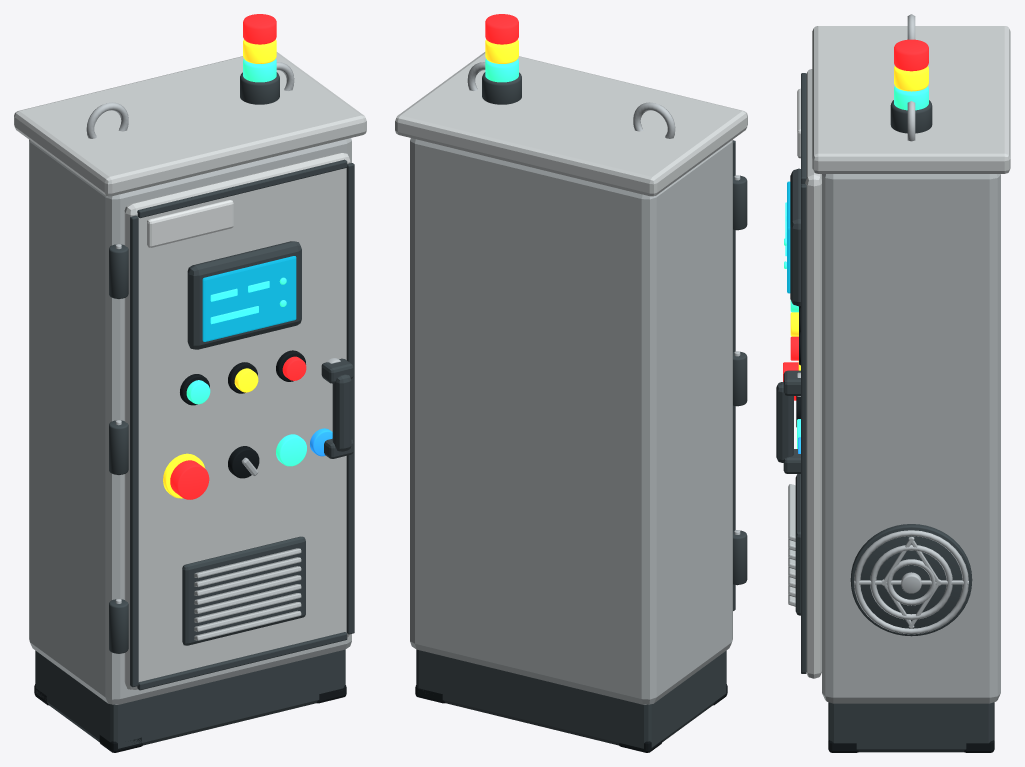
Rendered from plc-control-cabinet-generic-v1.glb.
The picture shows the model from 3 angles, left to right: view 1: azimuth 30°, elevation 25°; view 2: azimuth 150°, elevation 25°; view 3: azimuth 270°, elevation 25°; orthographic projection. The views are drawn at different scales.
Parts seen in each view (by area): view 1: DOOR_PANEL, CABINET_BODY, CABINET_TOP_CAP, CABINET_PLINTH, VENT_FRONT_RECESS, HMI_SCREEN, DOOR_GASKET_LEFT, HMI_BEZEL, DOOR_GASKET_RIGHT, CABINET_BLANK_NAMEPLATE, DOOR_GASKET_TOP, DOOR_GASKET_BOTTOM (+20 smaller); view 2: CABINET_BODY, CABINET_TOP_CAP, CABINET_PLINTH, STACK_LIGHT_BASE, STACK_LIGHT_RED, DOOR_GASKET_LEFT, DOOR_HINGE_1, DOOR_HINGE_2, DOOR_HINGE_3, STACK_LIGHT_AMBER, CABINET_LIFTING_EYE_L, STACK_LIGHT_GREEN; view 3: CABINET_BODY, CABINET_TOP_CAP, DOOR_PANEL, CABINET_PLINTH, SIDE_FAN_RECESS, DOOR_GASKET_RIGHT, SIDE_FAN_GUARD_RING_3, HMI_BEZEL, SIDE_FAN_GUARD_RING_2, DOOR_HANDLE, STACK_LIGHT_RED, STACK_LIGHT_BASE (+8 smaller).
Part boxes in pixels (box(x1,y1,x2,y2)): DOOR_PANEL: box(124, 153, 350, 689); CABINET_BODY: box(29, 138, 351, 704); CABINET_TOP_CAP: box(14, 52, 366, 196); CABINET_PLINTH: box(35, 649, 345, 748); VENT_FRONT_RECESS: box(182, 536, 305, 645); HMI_SCREEN: box(202, 256, 296, 341); DOOR_GASKET_LEFT: box(130, 215, 138, 687); HMI_BEZEL: box(187, 241, 301, 349); DOOR_GASKET_RIGHT: box(346, 163, 354, 634); CABINET_BLANK_NAMEPLATE: box(147, 200, 233, 247); DOOR_GASKET_TOP: box(137, 159, 347, 218); DOOR_GASKET_BOTTOM: box(137, 632, 347, 690); CABINET_BODY: box(410, 138, 732, 704); CABINET_TOP_CAP: box(395, 52, 747, 196); CABINET_PLINTH: box(416, 649, 726, 748); STACK_LIGHT_BASE: box(482, 72, 521, 104); STACK_LIGHT_RED: box(485, 14, 518, 44); DOOR_GASKET_LEFT: box(733, 140, 735, 610); DOOR_HINGE_1: box(733, 530, 747, 584); DOOR_HINGE_2: box(733, 351, 747, 405); DOOR_HINGE_3: box(733, 175, 747, 229); STACK_LIGHT_AMBER: box(485, 39, 518, 63); CABINET_LIFTING_EYE_L: box(633, 102, 675, 138); STACK_LIGHT_GREEN: box(485, 59, 518, 82); CABINET_BODY: box(822, 174, 1000, 703); CABINET_TOP_CAP: box(812, 26, 1010, 173); DOOR_PANEL: box(805, 69, 821, 678); CABINET_PLINTH: box(828, 702, 994, 752); SIDE_FAN_RECESS: box(850, 524, 972, 636); DOOR_GASKET_RIGHT: box(801, 184, 806, 672); SIDE_FAN_GUARD_RING_3: box(854, 530, 968, 634); HMI_BEZEL: box(790, 168, 800, 306); SIDE_FAN_GUARD_RING_2: box(870, 544, 952, 619); DOOR_HANDLE: box(776, 382, 793, 462); STACK_LIGHT_RED: box(894, 39, 928, 71); STACK_LIGHT_BASE: box(890, 100, 932, 133).
Size of the model in its own units: 1.01 by 2.36 by 0.7325.
